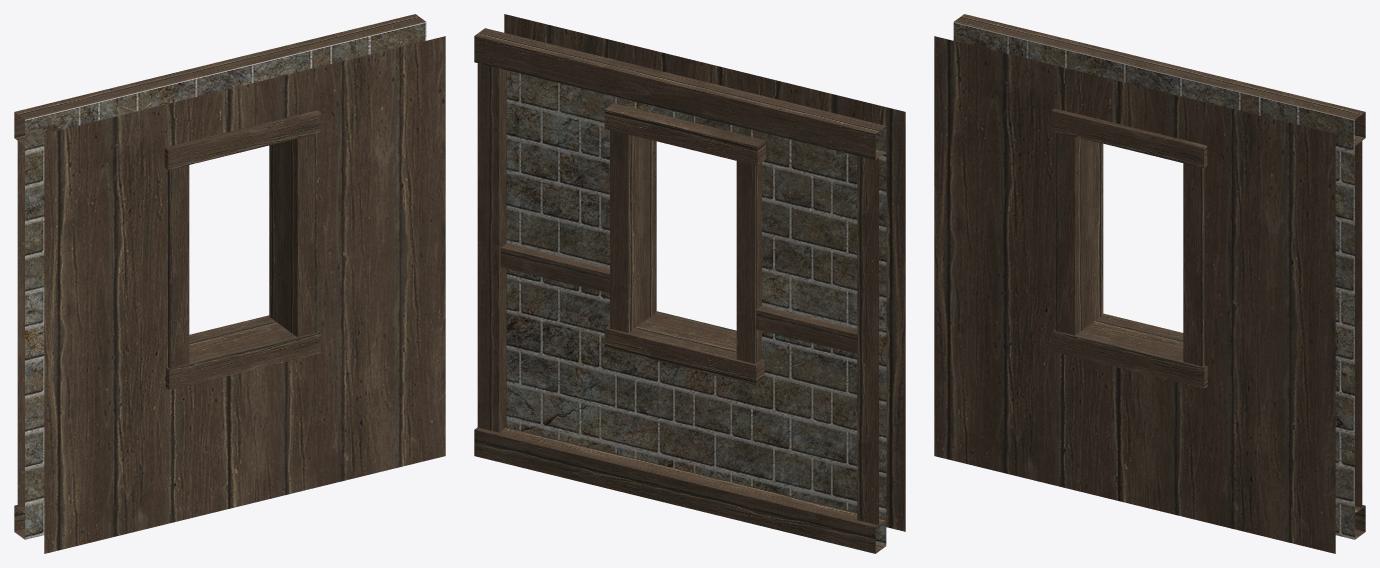
The model's file is ARC1010237.fbx.
3 renders of one model, left to right at view 1: azimuth 30°, elevation 25°; view 2: azimuth 150°, elevation 25°; view 3: azimuth 330°, elevation 25°, orthographic.
Parts seen in each view (by area): view 1: smARC1010237; view 2: smARC1010237; view 3: smARC1010237.
Part boxes in pixels (box(x1,y1,x2,y2)): smARC1010237: box(14, 14, 445, 553); smARC1010237: box(474, 14, 905, 553); smARC1010237: box(934, 14, 1365, 553).
Size of the model in its own units: 268 by 268 by 38.82.
Materials: 1 (1 with a texture image).
